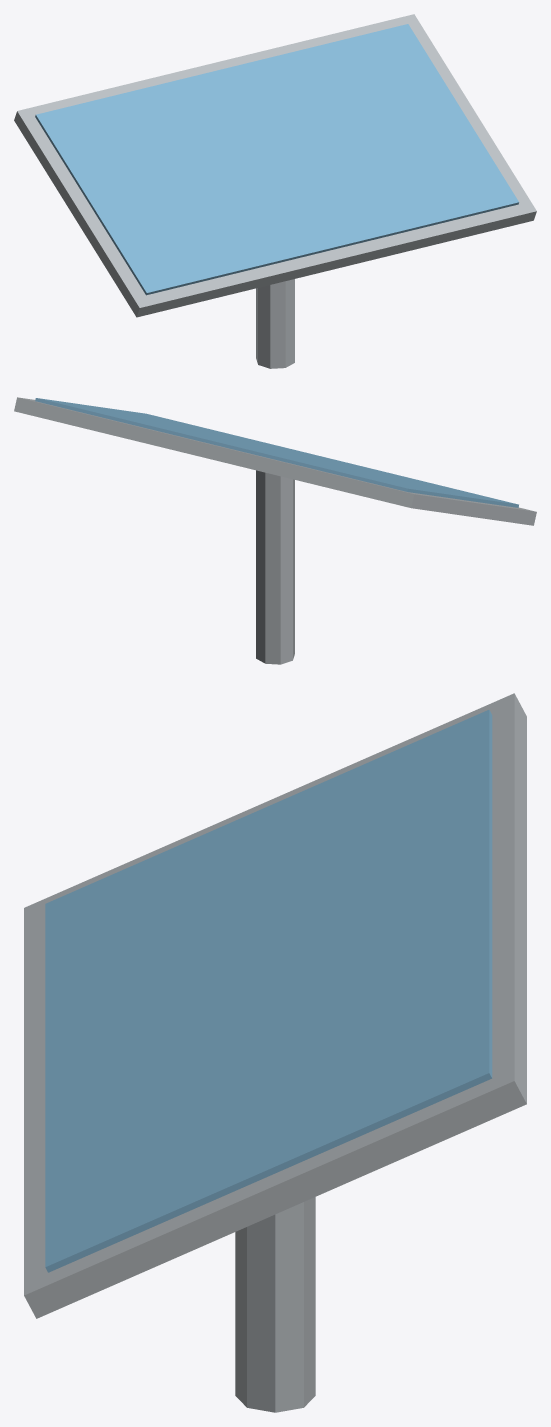
The model's file is SM_SolarPanel.fbx.
3 views of the same model, one above another, from view 1: azimuth 30°, elevation 25°; view 2: azimuth 150°, elevation 25°; view 3: azimuth 270°, elevation 25° (orthographic). The views are drawn at different scales.
Visible parts, largest first — view 1: SM_SolarPanel; view 2: SM_SolarPanel; view 3: SM_SolarPanel.
Part boxes in pixels (x1=…): SM_SolarPanel: x1=14, y1=14, x2=536, y2=368; SM_SolarPanel: x1=14, y1=397, x2=536, y2=664; SM_SolarPanel: x1=24, y1=693, x2=526, y2=1412.
Size of the model in its own units: 16000 by 8772 by 9791.
